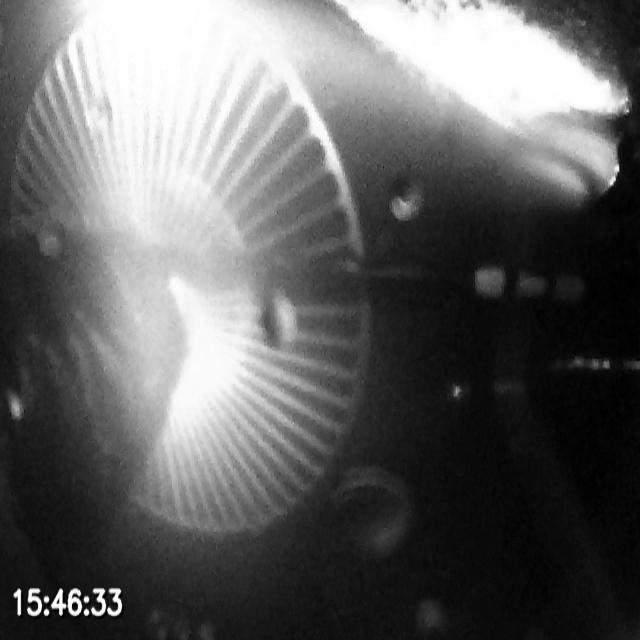white-dots: (472, 267, 586, 306)
